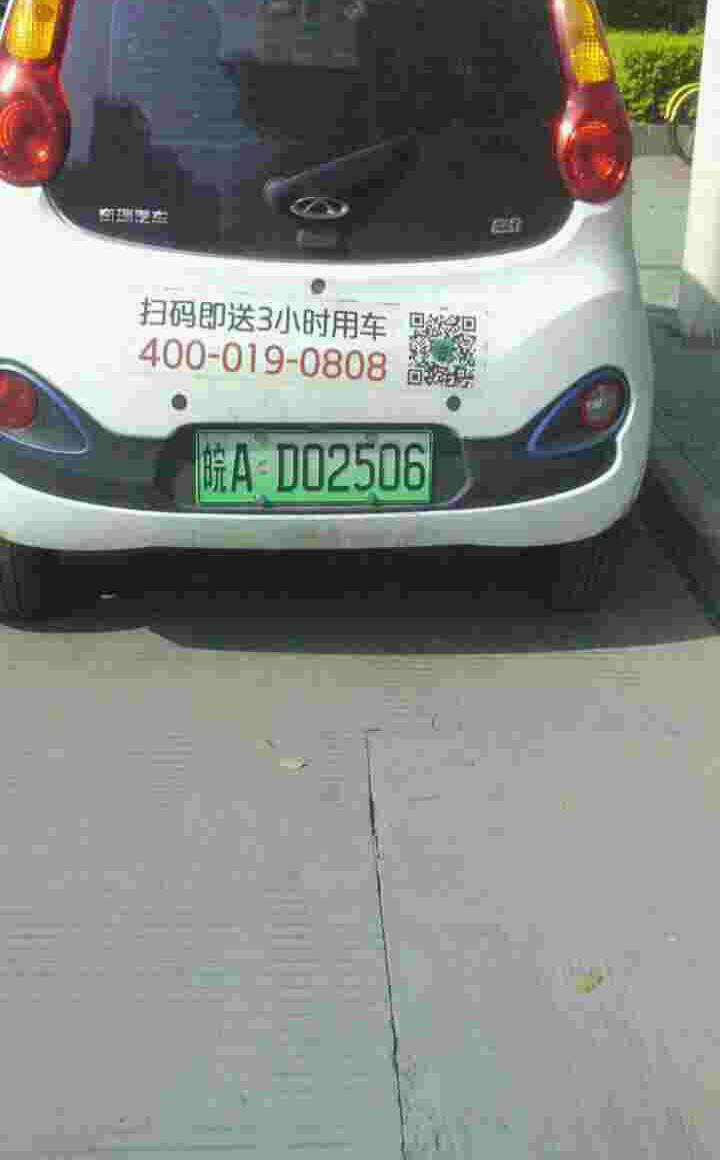car_id: (198, 431, 432, 500)
